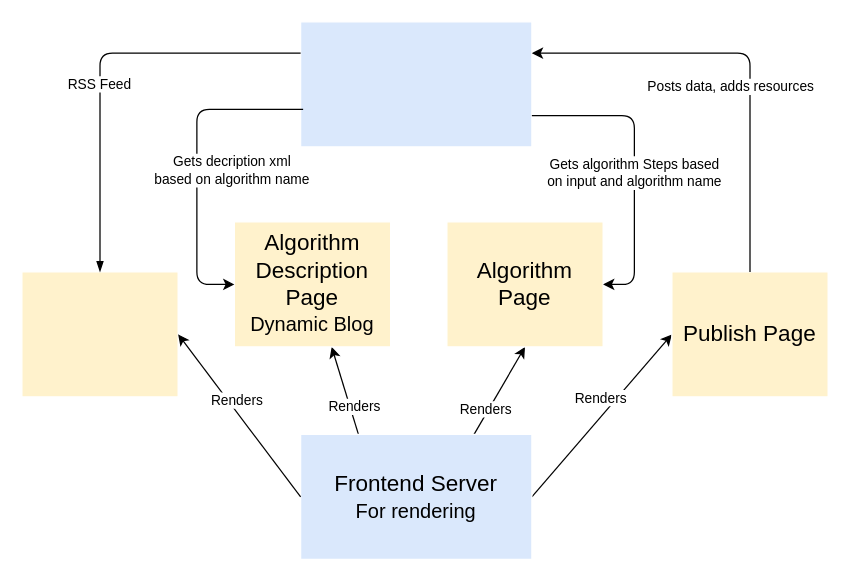
Image size: 850x581. Some labels were removed from this diagram. The shapes that lost their labels are listed below. From the top down, each one's centre as x and y in pixels, then its label:
(415,84): Backend Server
(99,334): Home Page RSS Feed
